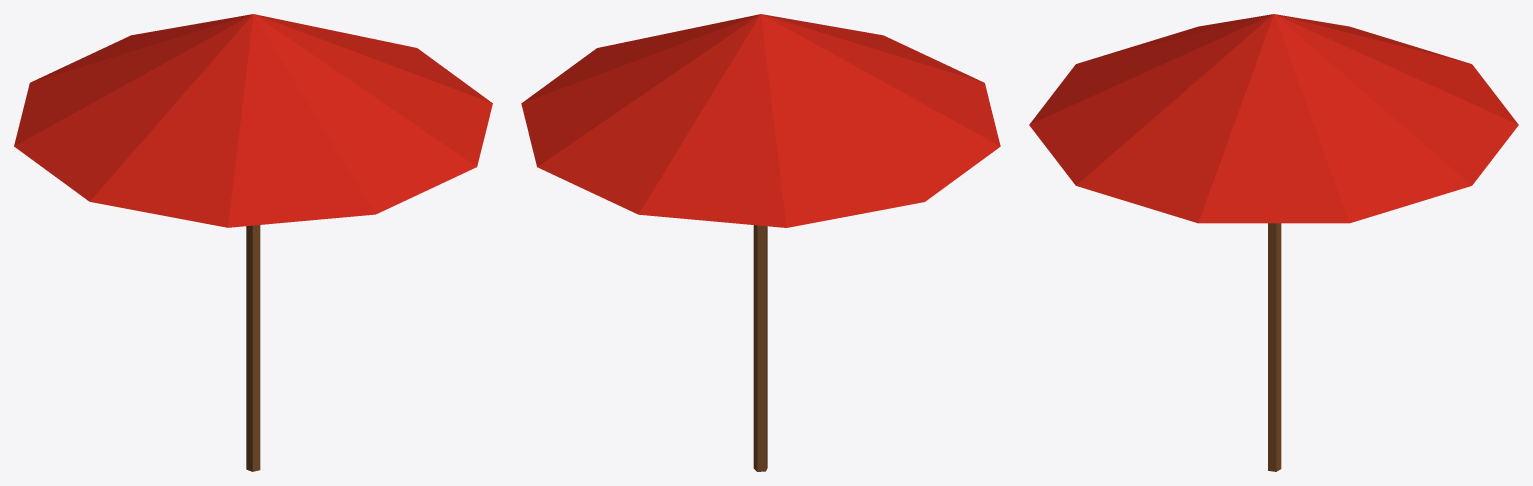
Rendered from paper_umbrella.fbx.
3 renders of one model, left to right at view 1: azimuth 30°, elevation 25°; view 2: azimuth 150°, elevation 25°; view 3: azimuth 270°, elevation 25°, orthographic.
Parts seen in each view (by area): view 1: paper_umbrella; view 2: paper_umbrella; view 3: paper_umbrella.
Part boxes in pixels (bbox=[...]): paper_umbrella: bbox=[14, 14, 492, 471]; paper_umbrella: bbox=[521, 14, 1000, 471]; paper_umbrella: bbox=[1029, 14, 1518, 471].
Size of the model in its own units: 1.9 by 2.05 by 2.
